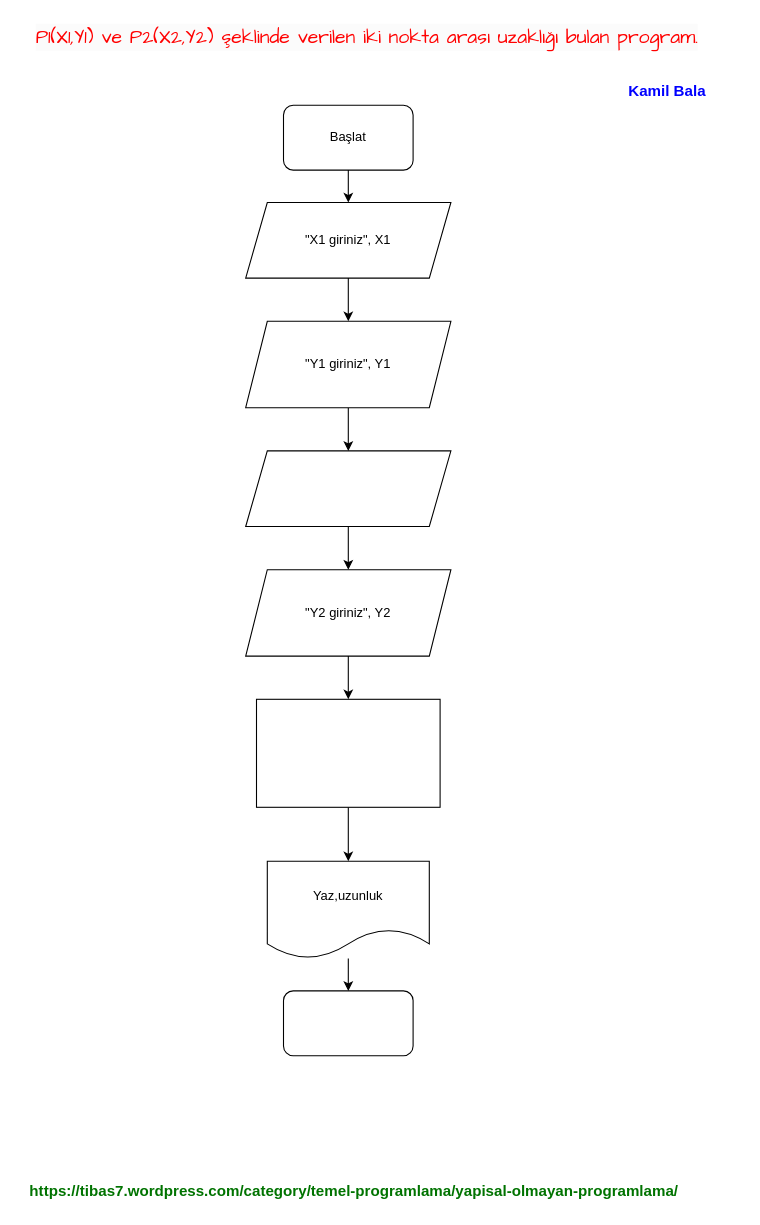
This 760x1225 diagram has some shape labels left out. Here are the shapes that lost their labels. From the top down, the centre of each, then its label:
(x=348, y=488): "X2 giriniz", X2
(x=347, y=752): d1=pow((X2-X1),2) //kare d2=pow((Y2-Y1),2) uzunluk=sqrt(d1+d2)
(x=347, y=1023): Bitir
